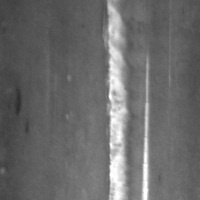inclusion: (11, 88, 24, 118)
scratches: (104, 0, 134, 199), (139, 49, 153, 199)
